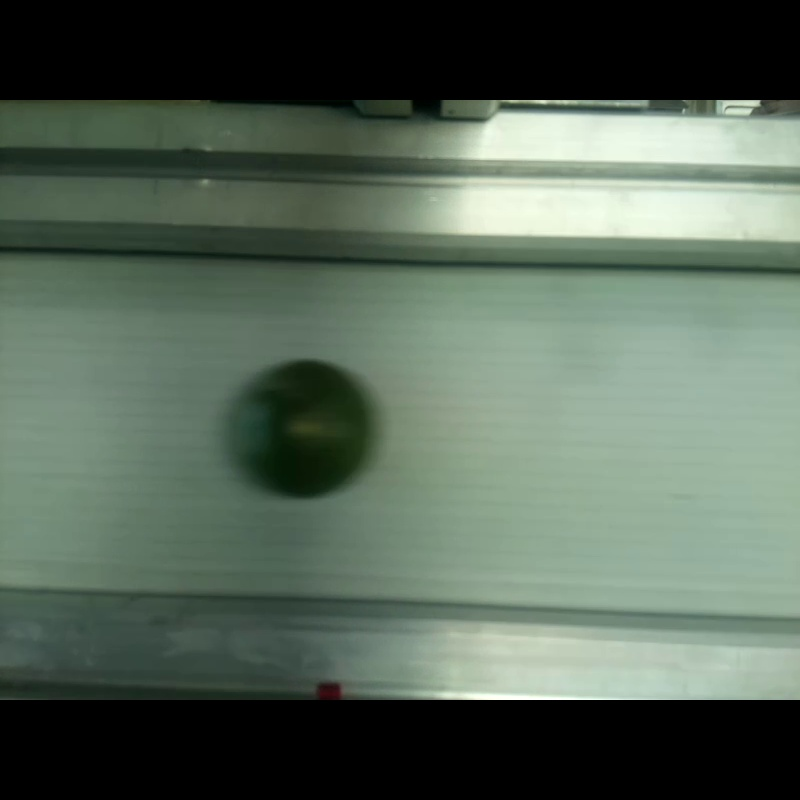lime: (233, 361, 372, 498)
